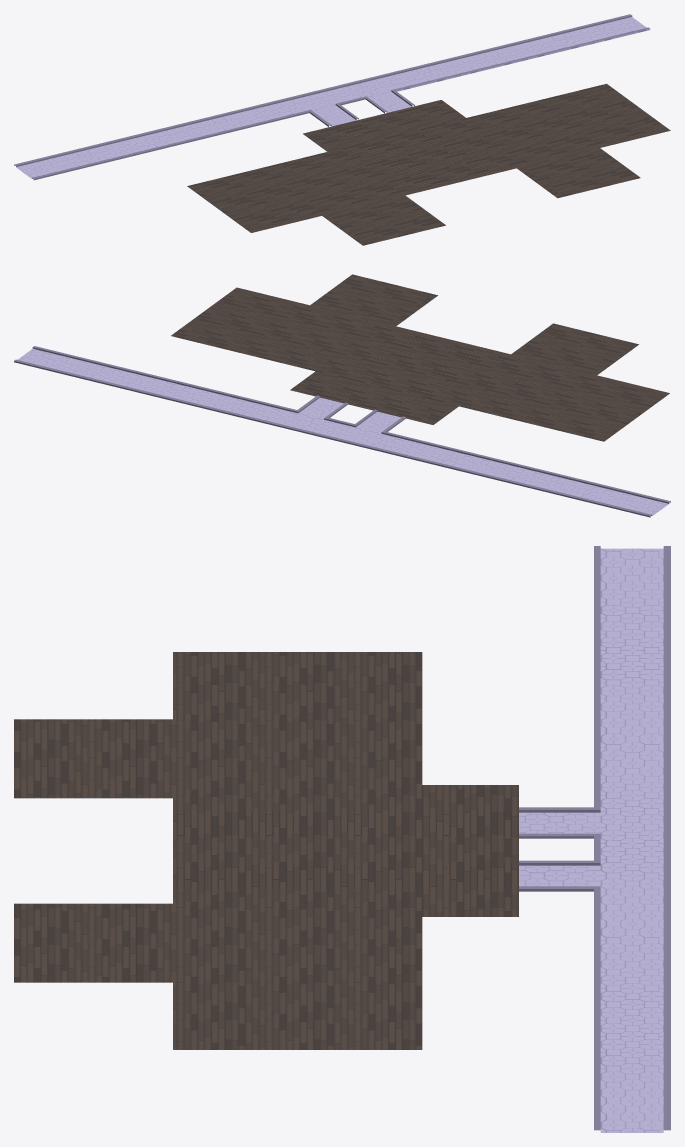
The model's file is Tienda1_Floor.fbx.
The picture shows the model from 3 angles, top to bottom: view 1: azimuth 30°, elevation 25°; view 2: azimuth 150°, elevation 25°; view 3: azimuth 270°, elevation 25°; orthographic projection. The views are drawn at different scales.
Visible parts, largest first — view 1: Floor; view 2: Floor; view 3: Floor.
Part boxes in pixels (bbox=[...]): Floor: bbox=[14, 14, 670, 245]; Floor: bbox=[14, 274, 670, 517]; Floor: bbox=[14, 546, 670, 1132].
Size of the model in its own units: 4433 by 9.31 by 2107.
